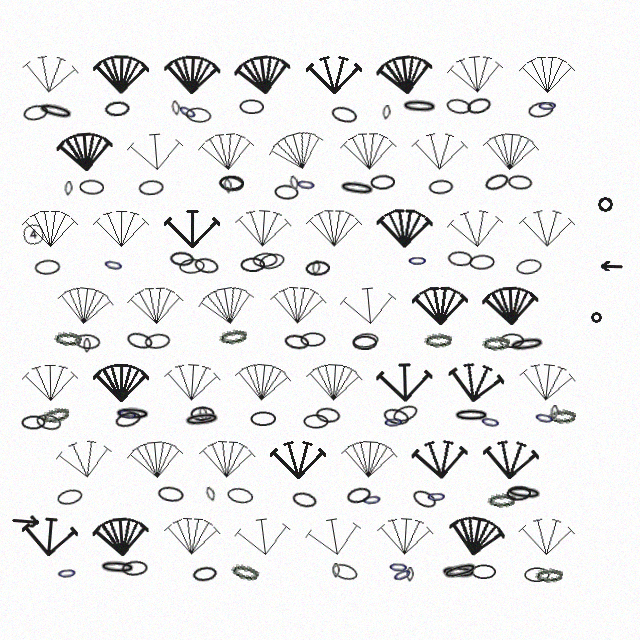chain: (441, 559, 480, 583), (36, 100, 75, 123), (338, 179, 376, 198), (508, 335, 546, 354), (183, 410, 221, 429), (410, 487, 439, 511), (505, 484, 543, 502), (40, 404, 71, 426), (391, 402, 420, 425), (330, 561, 359, 583), (401, 98, 438, 115), (99, 559, 136, 576), (440, 564, 477, 581), (483, 171, 511, 193), (125, 330, 154, 351), (230, 562, 260, 582), (114, 406, 151, 422), (330, 104, 358, 125), (465, 95, 493, 116), (114, 409, 142, 430), (382, 406, 410, 427), (218, 327, 248, 346), (258, 251, 286, 271), (56, 487, 84, 507), (345, 485, 373, 505), (453, 408, 490, 423), (175, 101, 200, 123), (35, 412, 62, 432), (291, 490, 318, 510), (527, 100, 555, 119), (515, 257, 543, 276), (226, 486, 254, 505), (390, 564, 415, 585), (22, 103, 49, 122), (445, 97, 472, 116), (193, 256, 220, 275), (185, 106, 212, 124), (144, 332, 171, 350), (283, 333, 310, 351), (157, 485, 184, 503), (218, 175, 244, 193), (315, 406, 341, 424), (192, 565, 218, 583), (487, 492, 516, 508), (74, 333, 101, 350), (352, 332, 379, 349), (424, 332, 452, 348), (482, 335, 510, 351), (548, 408, 576, 424), (535, 567, 563, 583), (104, 100, 130, 117), (138, 179, 164, 196), (507, 174, 533, 191), (447, 250, 473, 267), (34, 259, 61, 275), (121, 560, 148, 576), (54, 331, 82, 346), (428, 179, 454, 195), (179, 258, 205, 274), (169, 251, 195, 267), (252, 252, 278, 268), (469, 254, 495, 270), (102, 256, 125, 274), (116, 405, 139, 423), (479, 413, 502, 431), (533, 409, 556, 427), (79, 179, 104, 195), (274, 184, 299, 200), (370, 174, 395, 190), (305, 260, 330, 276), (506, 485, 531, 501), (300, 332, 326, 347), (250, 411, 276, 426), (303, 414, 329, 429), (524, 567, 550, 582), (239, 99, 264, 114), (219, 175, 244, 190), (240, 257, 265, 272), (352, 335, 377, 350), (499, 333, 524, 348), (21, 415, 46, 430), (190, 406, 215, 421), (471, 564, 496, 579), (295, 176, 317, 193), (361, 491, 383, 508), (56, 565, 78, 581), (383, 414, 404, 430), (388, 559, 409, 575), (537, 98, 558, 113), (407, 253, 428, 268), (426, 489, 447, 504), (205, 486, 217, 502), (289, 175, 300, 191), (198, 406, 209, 422), (171, 100, 181, 116), (223, 178, 233, 194), (311, 260, 321, 276), (382, 105, 391, 120), (64, 181, 73, 196), (550, 405, 559, 420), (83, 338, 91, 353), (332, 563, 340, 578), (406, 567, 414, 582)
fan: (265, 124, 330, 179), (445, 511, 507, 562), (196, 281, 258, 331), (303, 512, 365, 562), (445, 358, 506, 408), (54, 435, 115, 484), (233, 51, 293, 99), (375, 51, 435, 99), (55, 282, 115, 330), (233, 513, 293, 561), (20, 51, 80, 98), (517, 359, 577, 406), (446, 51, 505, 98), (233, 359, 292, 406), (126, 129, 185, 175), (197, 129, 256, 175), (481, 129, 540, 175), (446, 206, 505, 252), (339, 283, 398, 329), (126, 437, 185, 483), (481, 437, 540, 483), (20, 514, 79, 560), (56, 129, 114, 175), (92, 514, 150, 560), (234, 206, 292, 251), (269, 283, 327, 328), (163, 360, 221, 405), (305, 360, 363, 405), (198, 437, 256, 482), (340, 437, 398, 482), (411, 437, 469, 482), (163, 514, 221, 559), (376, 514, 434, 559), (163, 53, 221, 97), (127, 284, 184, 328), (482, 284, 539, 328), (518, 515, 575, 559), (340, 130, 397, 173), (411, 130, 468, 173), (376, 207, 433, 250), (376, 361, 433, 404), (93, 53, 149, 96), (306, 207, 362, 250), (519, 207, 575, 250), (306, 54, 362, 96), (519, 54, 575, 96), (22, 208, 78, 250), (93, 208, 149, 250), (164, 208, 220, 250), (412, 285, 468, 327), (22, 362, 78, 404), (93, 362, 149, 404), (270, 439, 326, 481)
noise: (20, 221, 46, 247), (11, 514, 41, 528), (595, 194, 615, 214), (598, 261, 623, 271), (590, 311, 603, 324)
